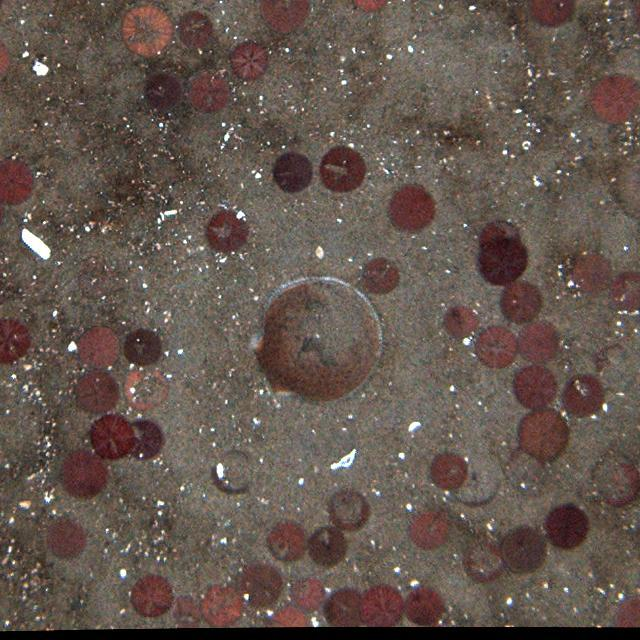scallop: (255, 276, 382, 406)
